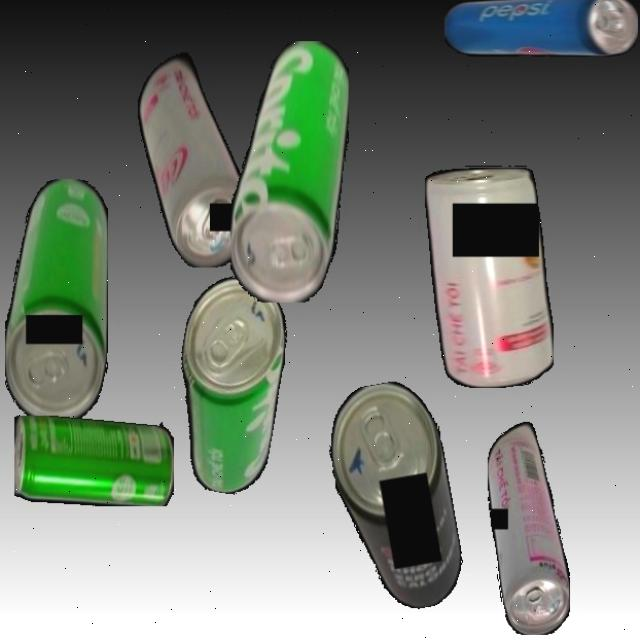debris: (320, 376, 469, 618), (160, 270, 298, 499), (229, 40, 349, 303), (424, 166, 553, 388), (137, 42, 250, 268), (4, 178, 108, 421), (487, 421, 570, 635), (13, 415, 174, 506), (443, 0, 638, 57)
